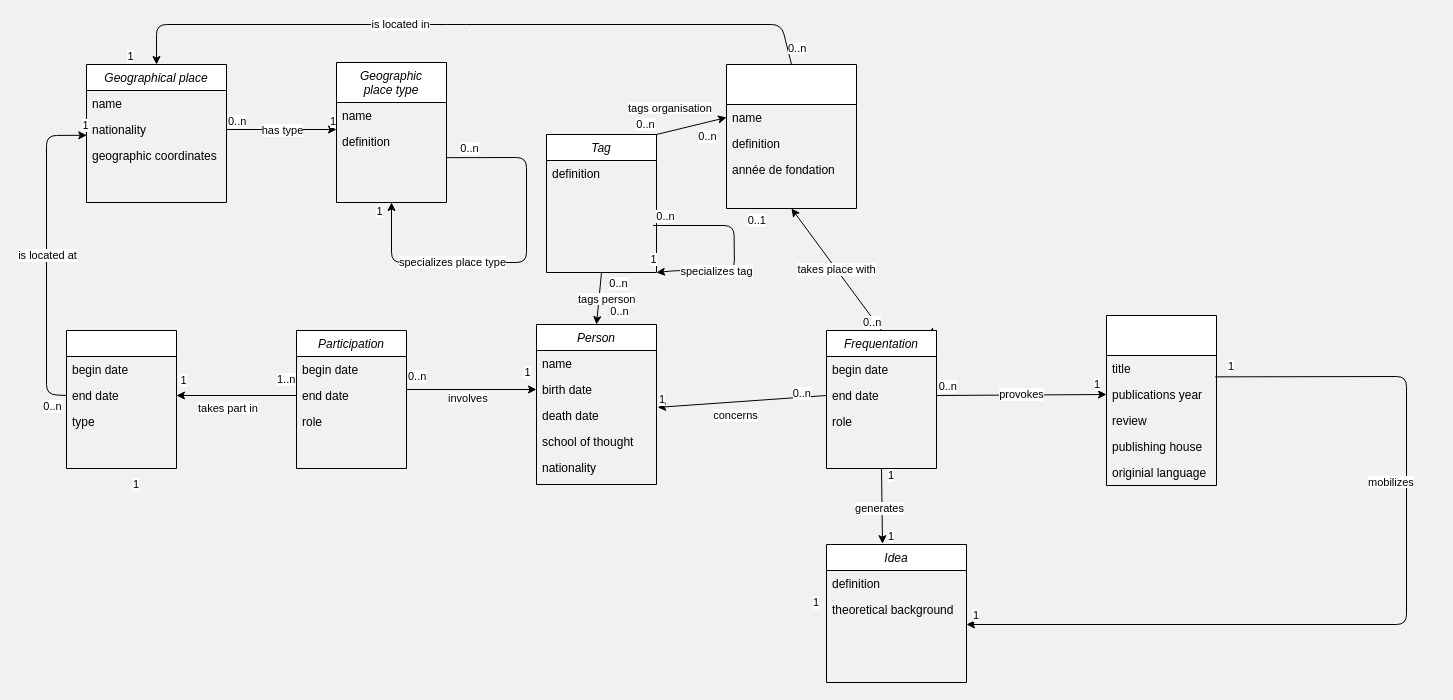
Some shapes in this 1453 by 700 pixel diagram are drawn without their labels. The shapes that lost their labels are listed below. From the top down, each one's box as (x1, y1, x2, y2) in pixels, then its label:
(726, 64, 856, 208): Organisation
(66, 330, 176, 468): Formation
(1106, 314, 1216, 486): Production
